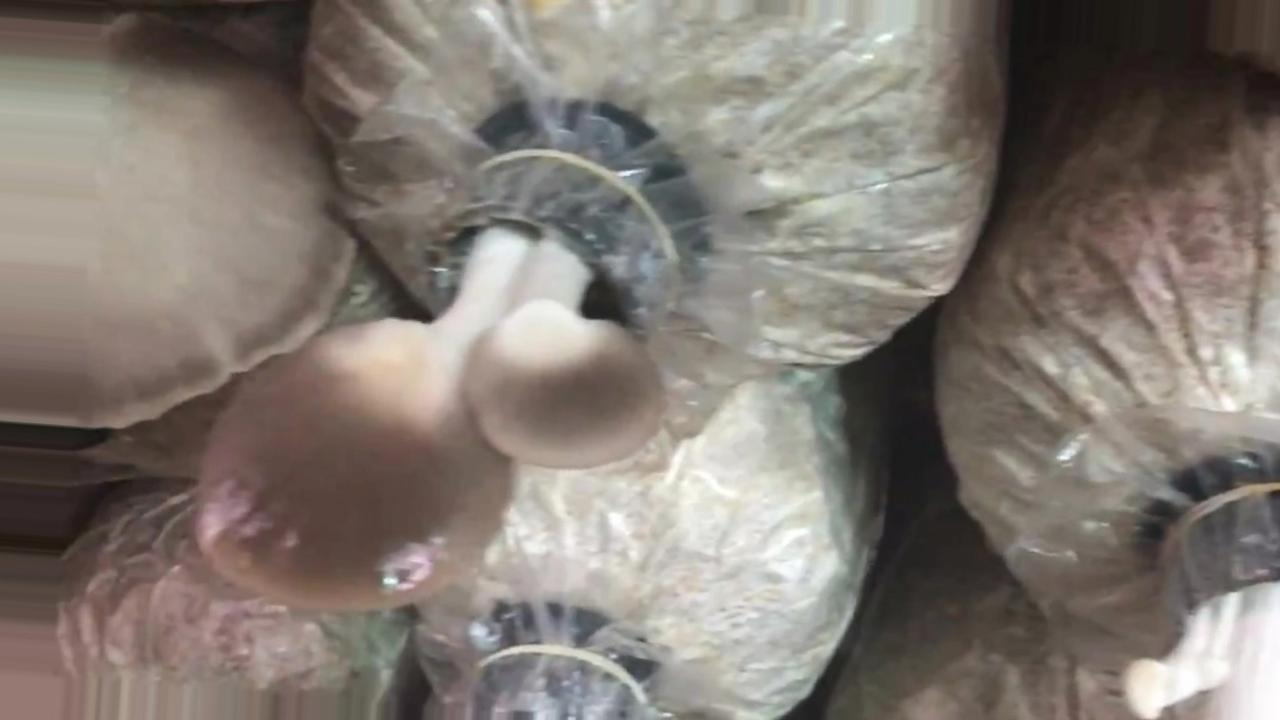nam: (196, 121, 677, 612)
